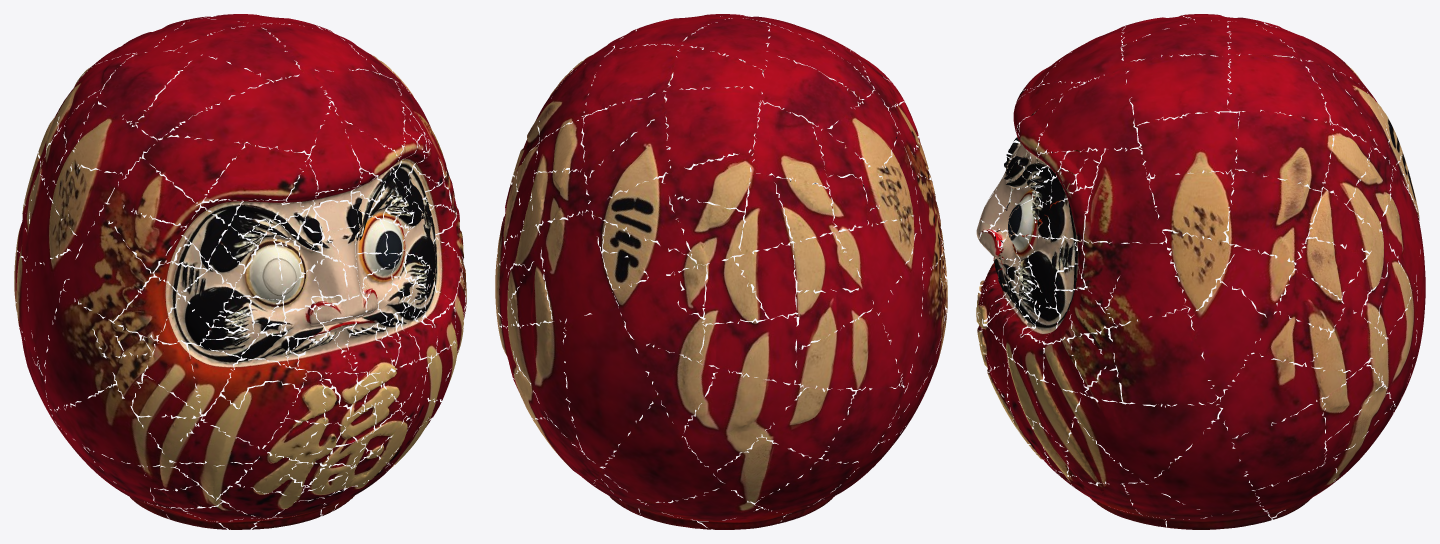
File: daruma_left.glb
3 views of the same model, side by side, from view 1: azimuth 30°, elevation 25°; view 2: azimuth 150°, elevation 25°; view 3: azimuth 270°, elevation 25° (orthographic).
Visible parts, largest first — view 1: daruma; view 2: daruma; view 3: daruma.
Part boxes in pixels (left/top/right/bottom): daruma: left=14, top=14, right=466, bottom=529; daruma: left=495, top=14, right=947, bottom=529; daruma: left=976, top=14, right=1425, bottom=529.
Bounding box in the file's own units: 1.65 × 1.8 × 1.65.
Materials: 1 (1 with a texture image).
